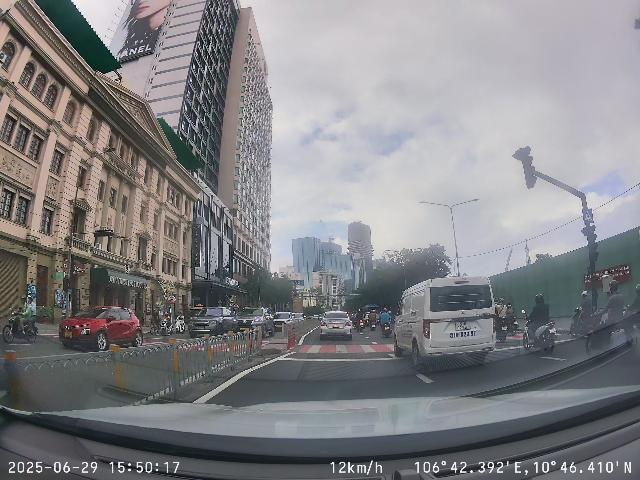423a-duong-nguoi-di-bo-sang-ngang-1: (583, 209, 594, 223)
